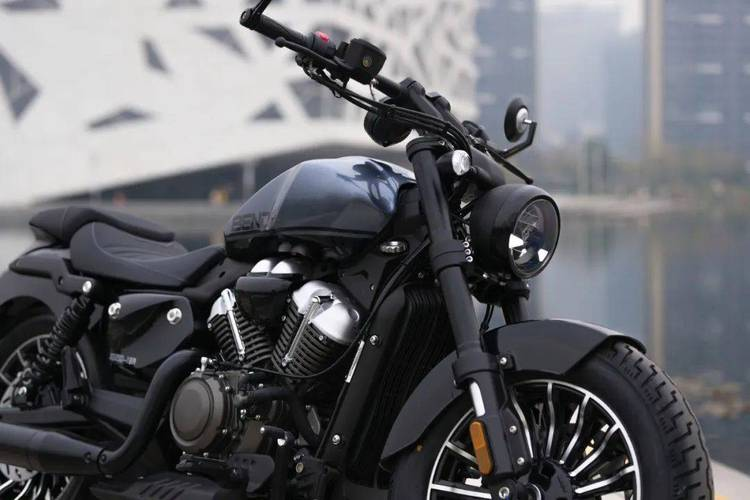摩托车: (1, 5, 716, 498)
